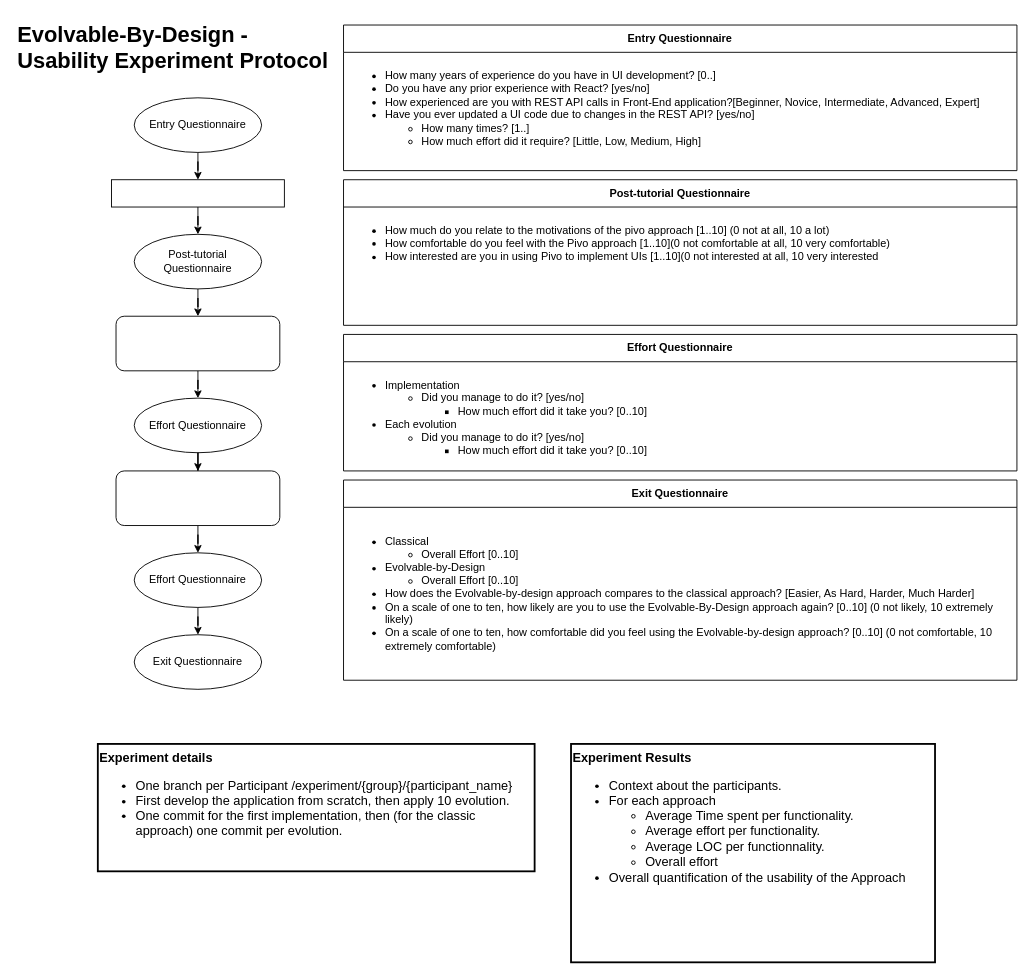
Some shapes in this 1033 by 978 pixel diagram are drawn without their labels. The shapes that lost their labels are listed below. From the top down, each one's box as (x1, y1, x2, y2) in pixels, then its label:
(111, 179, 284, 207): Tutorial on Evolvable-By-Design
(115, 315, 280, 371): Implementation Group 1 : Classical Group 2 : Evolvable-By-Design
(115, 470, 280, 526): Implementation Group 1 : Evolvable-By-Design Group 2 : Classical
